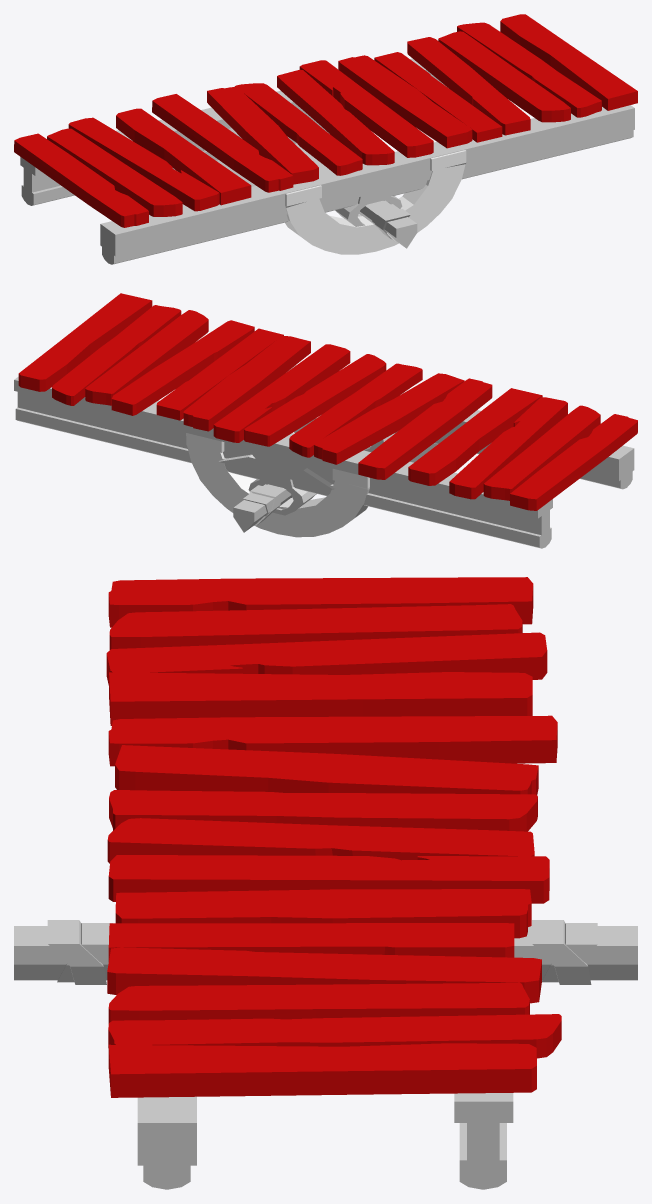
3 views of the same model, one above another, from view 1: azimuth 30°, elevation 25°; view 2: azimuth 150°, elevation 25°; view 3: azimuth 270°, elevation 25° (orthographic). The views are drawn at different scales.
Visible parts, largest first — view 1: SM_ENV_dng009_rt_bridge_a1; view 2: SM_ENV_dng009_rt_bridge_a1; view 3: SM_ENV_dng009_rt_bridge_a1.
Part boxes in pixels (x1=…): SM_ENV_dng009_rt_bridge_a1: x1=14, y1=14, x2=637, y2=264; SM_ENV_dng009_rt_bridge_a1: x1=14, y1=293, x2=637, y2=548; SM_ENV_dng009_rt_bridge_a1: x1=14, y1=577, x2=637, y2=1189.
Bounding box in the file's own units: 10.05 × 1.9 × 5.28.
